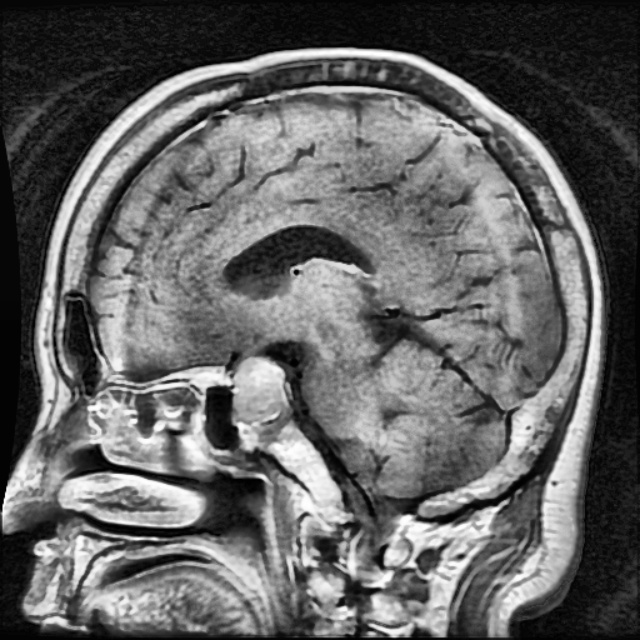Pituitary: (232, 357, 294, 435)
